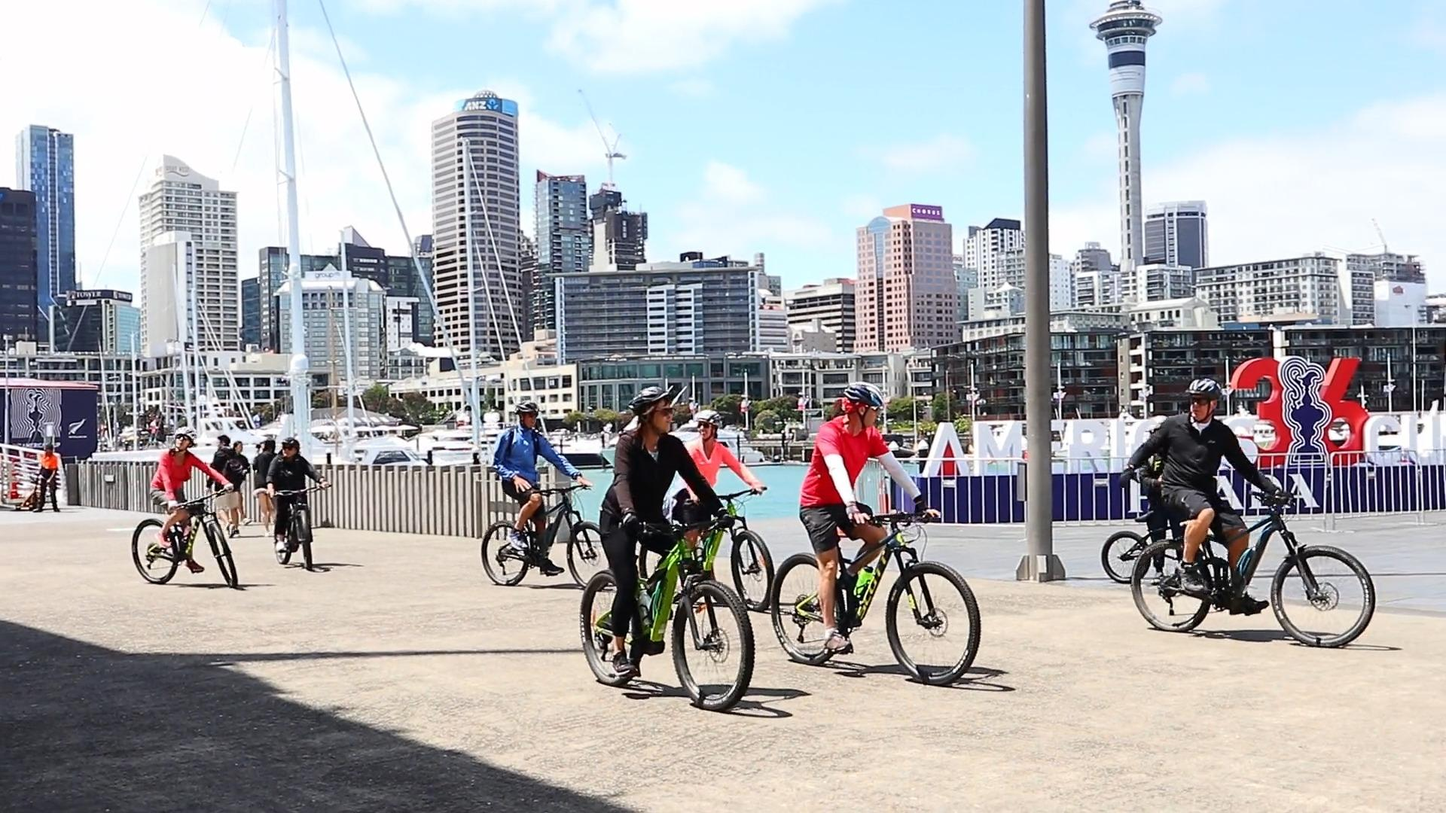bicyclist: (1119, 379, 1376, 649), (771, 380, 981, 684), (580, 385, 756, 710), (481, 400, 611, 592), (131, 427, 239, 588), (267, 436, 332, 570)
helmet: (628, 385, 674, 435), (842, 382, 885, 431), (1185, 378, 1222, 423), (694, 410, 723, 441), (514, 400, 539, 430), (175, 427, 198, 452)
